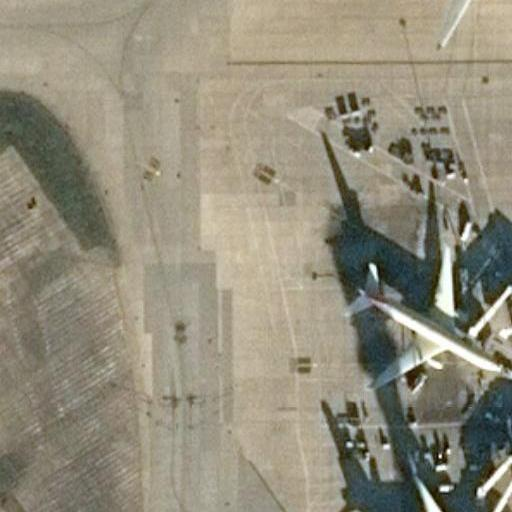Aircraft: (338, 239, 512, 390), (369, 0, 512, 48), (348, 471, 512, 512)
